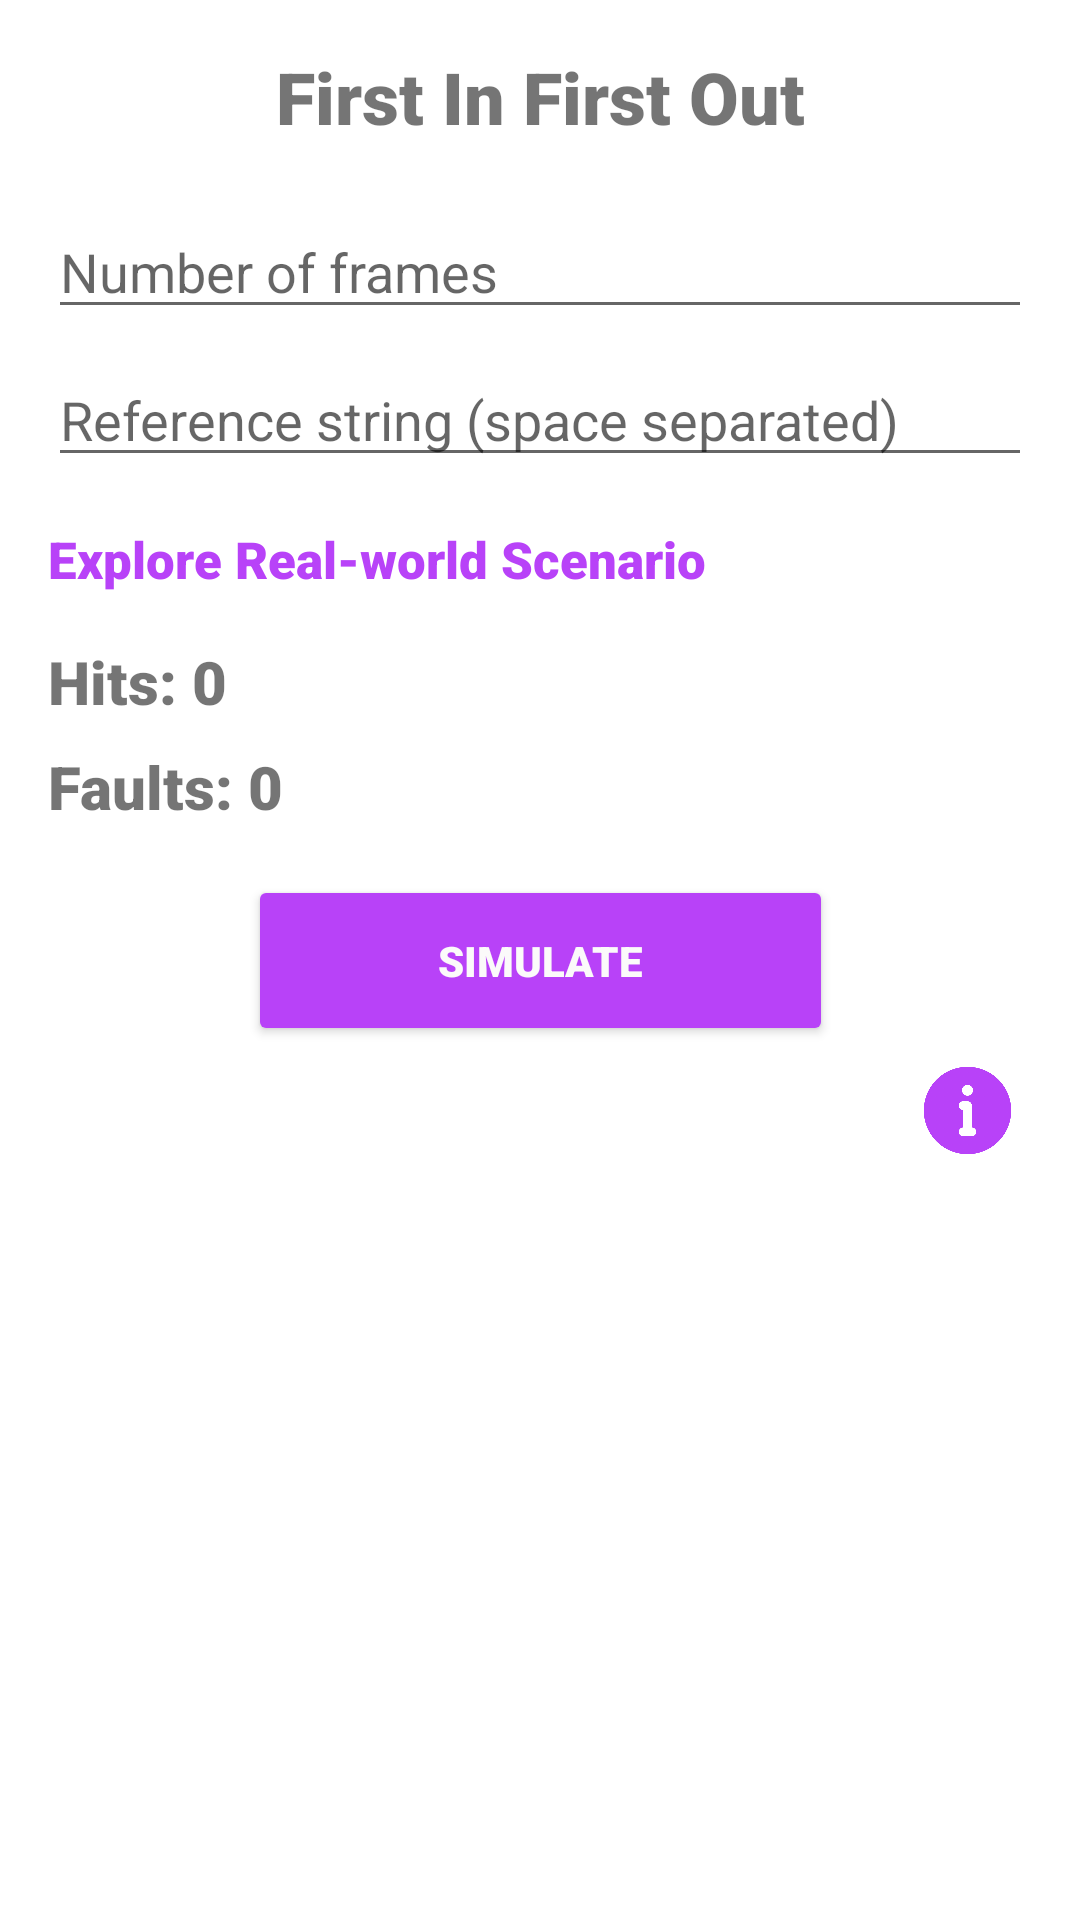

Where to tap for icons on this 1080px×1920px app screen, as point (x, y):
information: point (967, 1110)
